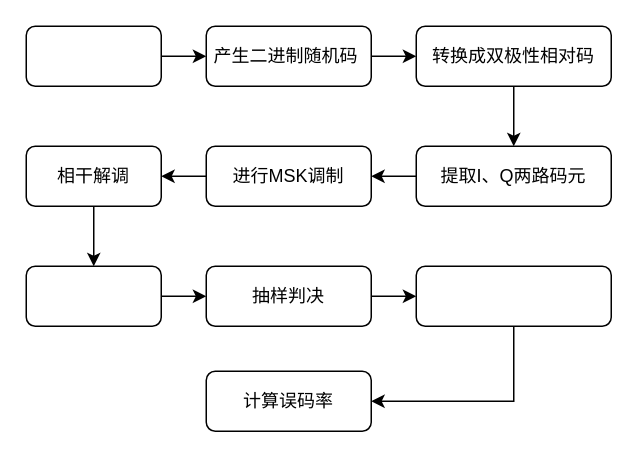
Image size: 638x458. Some labels were removed from this diagram. The box of each missing label's shape, as (x1, y1, x2, y2) in pixels:
定义基本参数: (25, 25, 161, 86)
将两路码元转成相对码: (415, 265, 611, 326)
滤波器处理: (25, 265, 161, 326)
